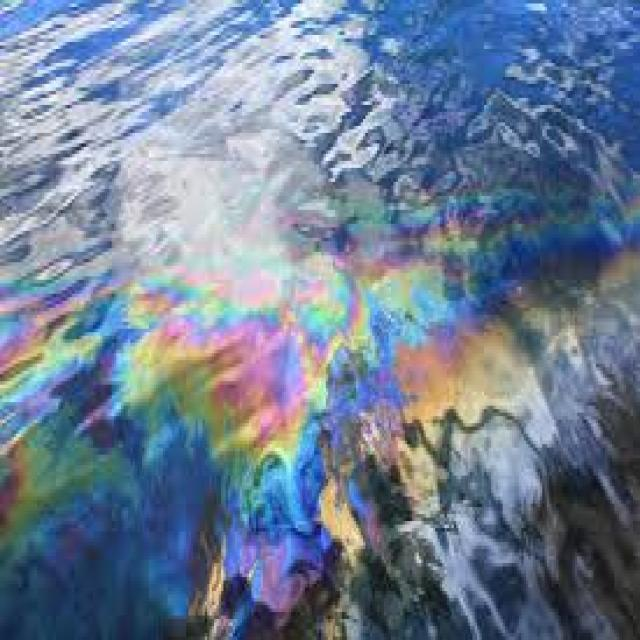rainbow: (0, 227, 556, 638)
sheen: (0, 3, 372, 278)
